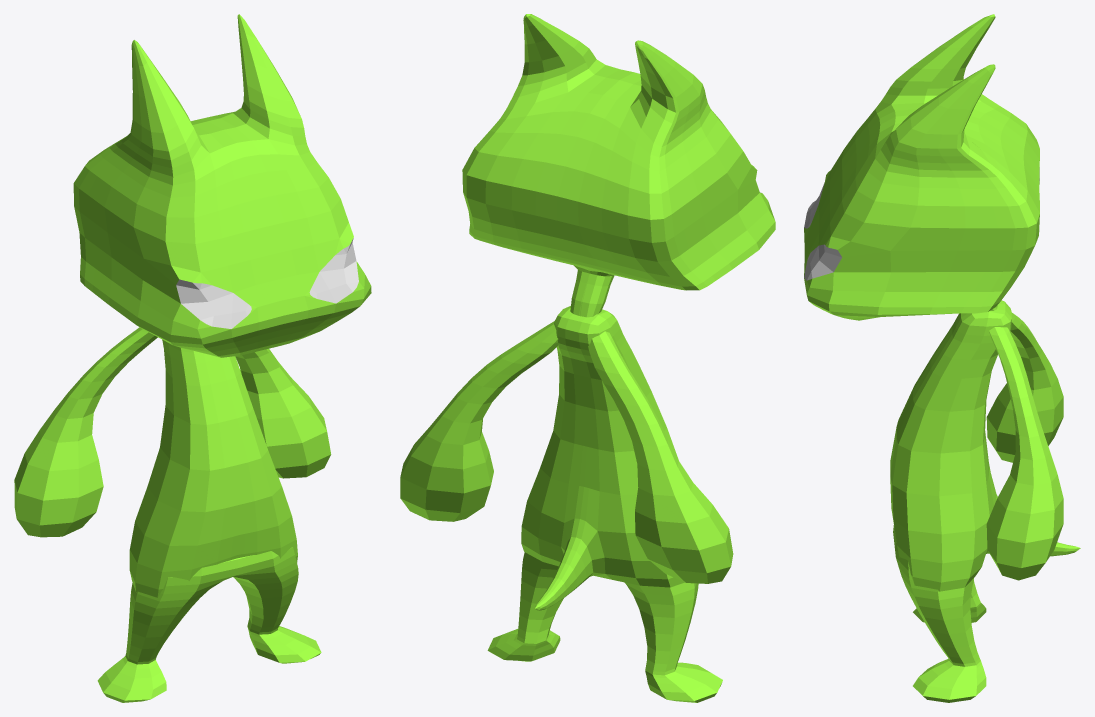
The model's file is character.fbx.
3 renders of one model, left to right at view 1: azimuth 30°, elevation 25°; view 2: azimuth 150°, elevation 25°; view 3: azimuth 270°, elevation 25°, orthographic. The views are drawn at different scales.
Parts seen in each view (by area): view 1: head; view 2: head; view 3: head.
Part boxes in pixels (x1,y1,x2,y2): head: (14, 14, 371, 702); head: (400, 14, 775, 702); head: (804, 14, 1080, 702).
Size of the model in its own units: 122 by 234 by 95.35.
